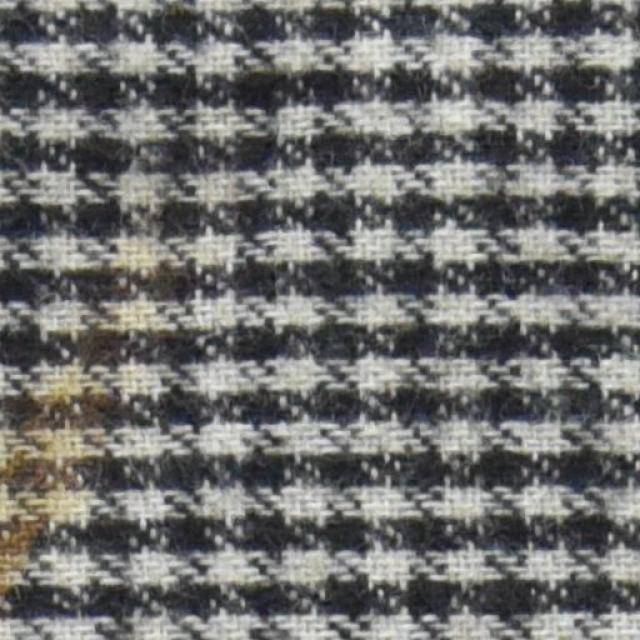Stain: (0, 318, 126, 612)
